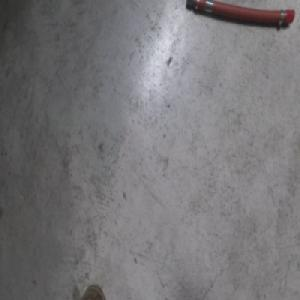Hose: (185, 0, 296, 30)
